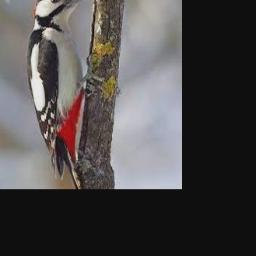Woodpecker: (26, 0, 100, 189)
